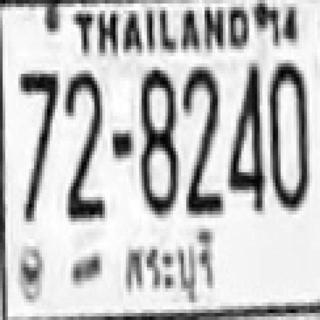N00: (268, 60, 307, 208)
N02: (63, 70, 102, 204), (182, 67, 219, 204), (64, 95, 104, 218), (63, 68, 102, 192), (181, 65, 218, 192)
N04: (226, 62, 262, 209)
N07: (18, 70, 58, 215), (18, 70, 58, 193), (18, 70, 58, 172)
N08: (139, 67, 176, 211)
P60: (116, 228, 216, 307)
